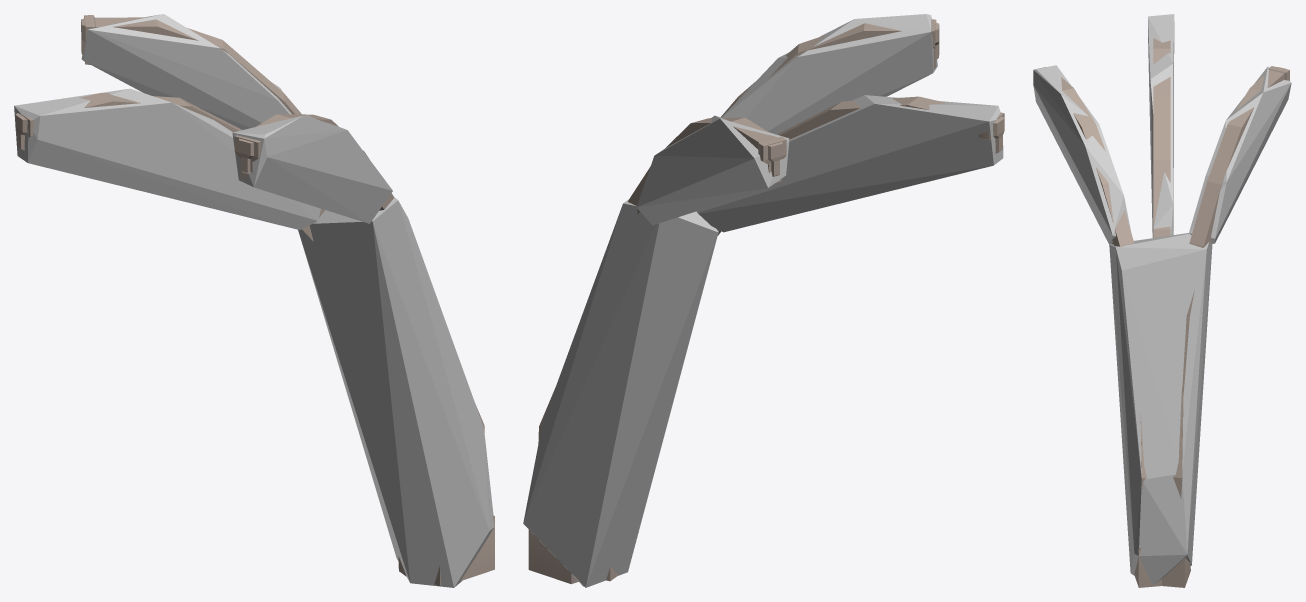
File: SM_Bld_SupportBeam_Large_01.fbx
3 views of the same model, side by side, from view 1: azimuth 30°, elevation 25°; view 2: azimuth 150°, elevation 25°; view 3: azimuth 270°, elevation 25° (orthographic). The views are drawn at different scales.
Visible parts, largest first — view 1: SM_Bld_SupportBeam_Large_01_ConvexHulls, SM_Bld_SupportBeam_Large_01; view 2: SM_Bld_SupportBeam_Large_01_ConvexHulls, SM_Bld_SupportBeam_Large_01; view 3: SM_Bld_SupportBeam_Large_01_ConvexHulls, SM_Bld_SupportBeam_Large_01.
Part boxes in pixels (<box>): SM_Bld_SupportBeam_Large_01_ConvexHulls: <box>14,14,494,587</box>; SM_Bld_SupportBeam_Large_01: <box>15,15,494,586</box>; SM_Bld_SupportBeam_Large_01_ConvexHulls: <box>523,14,1003,587</box>; SM_Bld_SupportBeam_Large_01: <box>528,19,1004,586</box>; SM_Bld_SupportBeam_Large_01_ConvexHulls: <box>1033,14,1291,585</box>; SM_Bld_SupportBeam_Large_01: <box>1037,38,1289,587</box>.
Size of the model in its own units: 828 by 543 by 958.
Materials: 2 (1 with a texture image).
